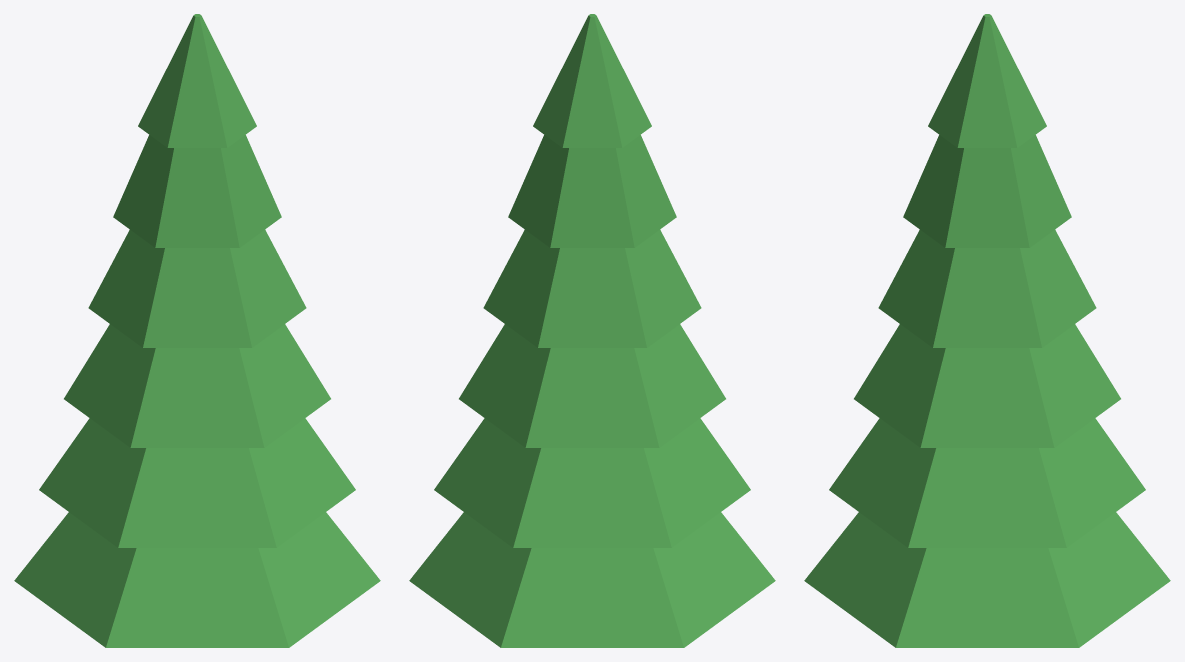
Rendered from coniferousThree_01.glb.
3 renders of one model, left to right at view 1: azimuth 30°, elevation 25°; view 2: azimuth 150°, elevation 25°; view 3: azimuth 270°, elevation 25°, orthographic.
Parts seen in each view (by area): view 1: tree03_001; view 2: tree03_001; view 3: tree03_001.
Part boxes in pixels (left/top/right/bottom): tree03_001: left=14, top=14, right=380, bottom=647; tree03_001: left=409, top=14, right=775, bottom=647; tree03_001: left=804, top=14, right=1170, bottom=647.
Size of the model in its own units: 13.52 by 28.3 by 15.61.
